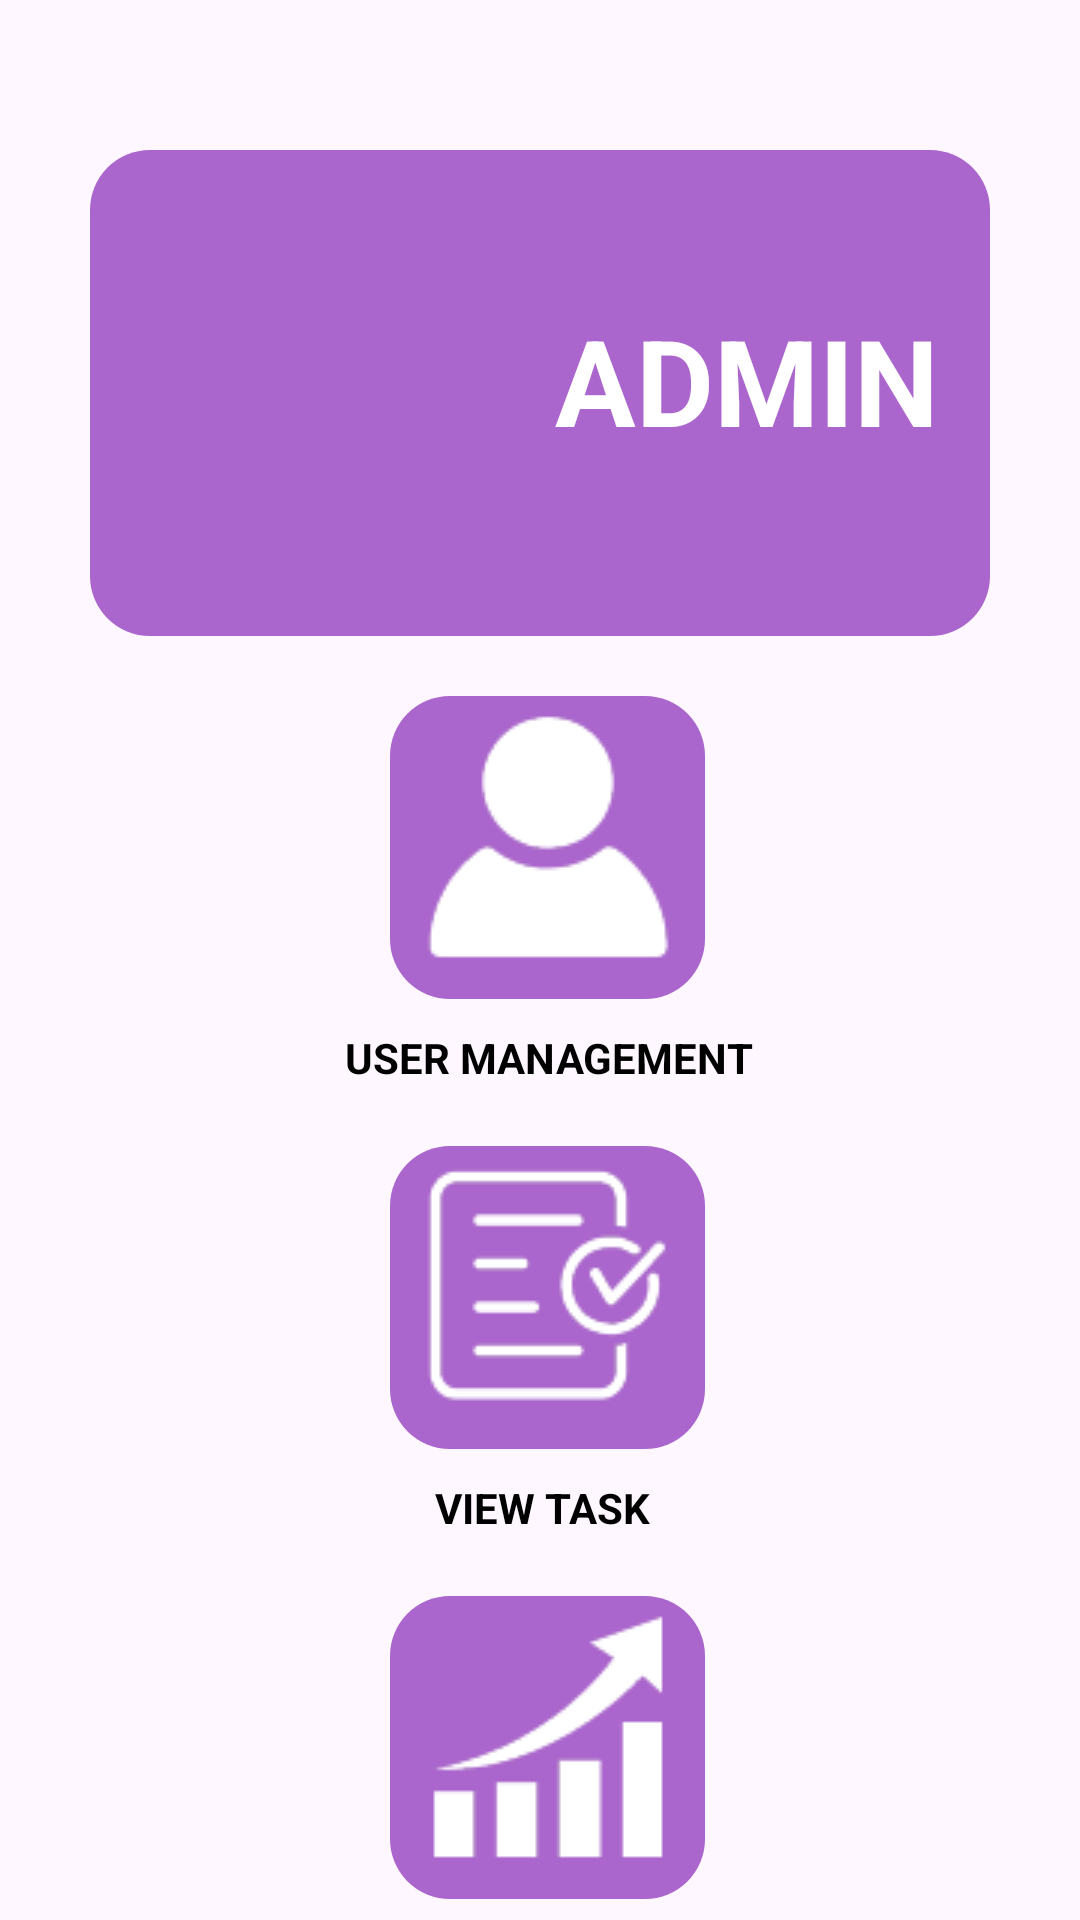

Screen size 1080*1920. Icon name, then its box in pixels as (x1, y1, x2, y2):
graph: (390, 1596, 705, 1899)
